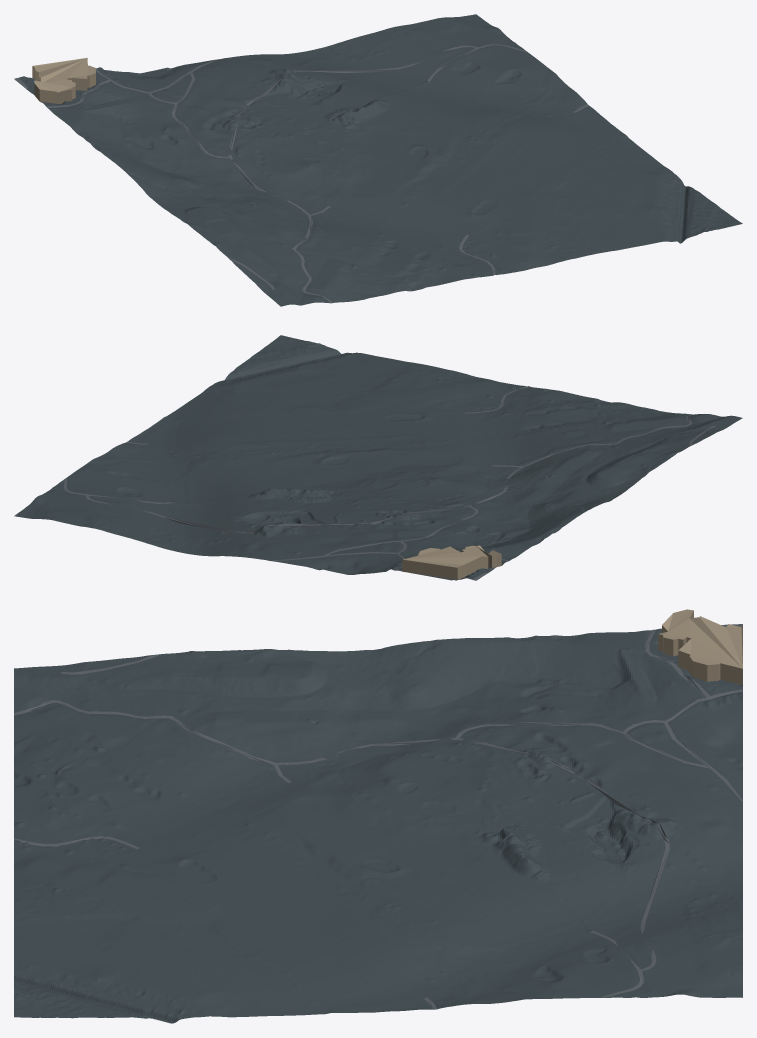
File: epsg26910-1418-10869.lod0.glb
3 views of the same model, one above another, from view 1: azimuth 30°, elevation 25°; view 2: azimuth 150°, elevation 25°; view 3: azimuth 270°, elevation 25° (orthographic). The views are drawn at different scales.
Parts seen in each view (by area): view 1: epsg26910-1418-10869-lod0; view 2: epsg26910-1418-10869-lod0; view 3: epsg26910-1418-10869-lod0.
Part boxes in pixels (<box>): epsg26910-1418-10869-lod0: <box>14,14,742,306</box>; epsg26910-1418-10869-lod0: <box>14,335,742,580</box>; epsg26910-1418-10869-lod0: <box>14,609,742,1023</box>.
Size of the model in its own units: 384 by 62.05 by 384.
